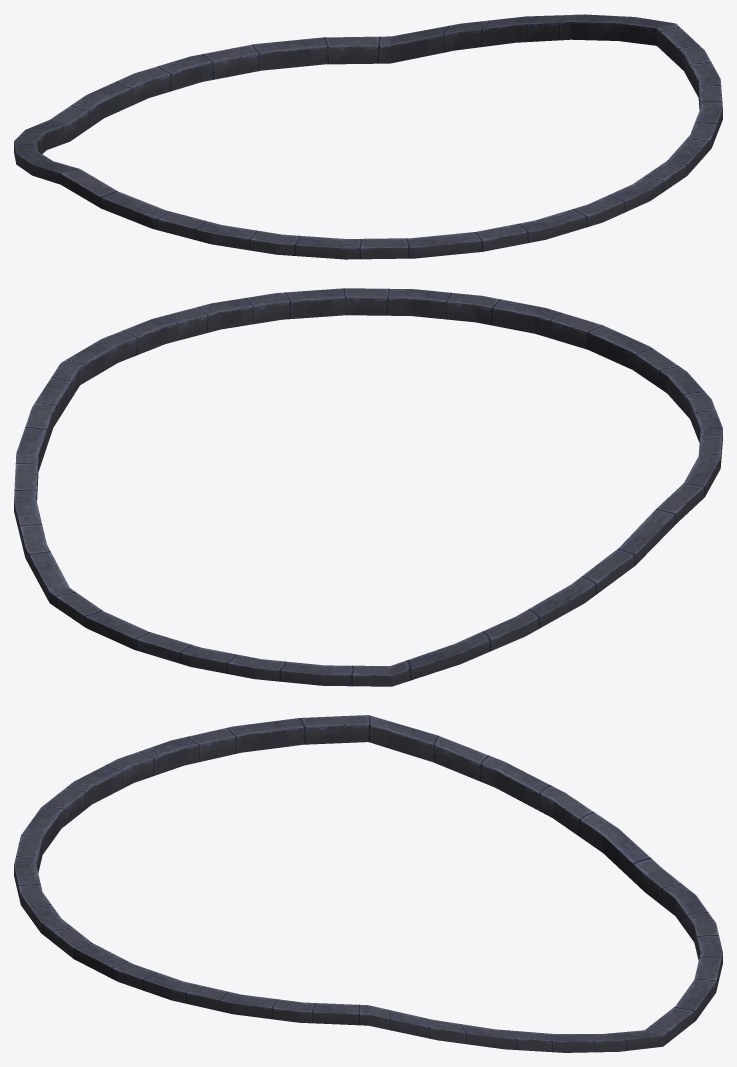
Rendered from sn_chengbao_fbbrick_006.FBX.
3 renders of one model, top to bottom at view 1: azimuth 30°, elevation 25°; view 2: azimuth 150°, elevation 25°; view 3: azimuth 270°, elevation 25°, orthographic.
Parts seen in each view (by area): view 1: sn_chengbao_fbbrick_006; view 2: sn_chengbao_fbbrick_006; view 3: sn_chengbao_fbbrick_006.
Boxes of the visible parts, <box> form: sn_chengbao_fbbrick_006: <box>14,14,722,259</box>; sn_chengbao_fbbrick_006: <box>14,288,722,686</box>; sn_chengbao_fbbrick_006: <box>14,715,722,1052</box>.
Size of the model in its own units: 2713 by 2714 by 444.
